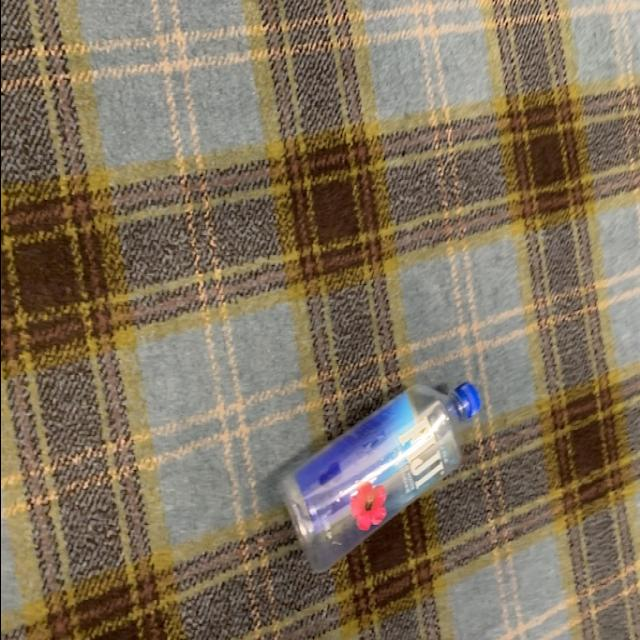litter: (272, 380, 484, 575)
